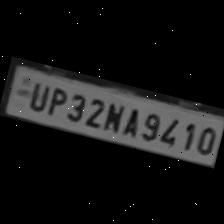0: (190, 120, 218, 158)
1: (174, 116, 198, 153)
2: (80, 92, 108, 130)
3: (60, 87, 86, 124)
4: (154, 110, 182, 148)
9: (134, 106, 162, 144)
A: (117, 100, 144, 139)
N: (98, 96, 126, 134)
P: (42, 83, 68, 119)
U: (23, 77, 49, 113)
